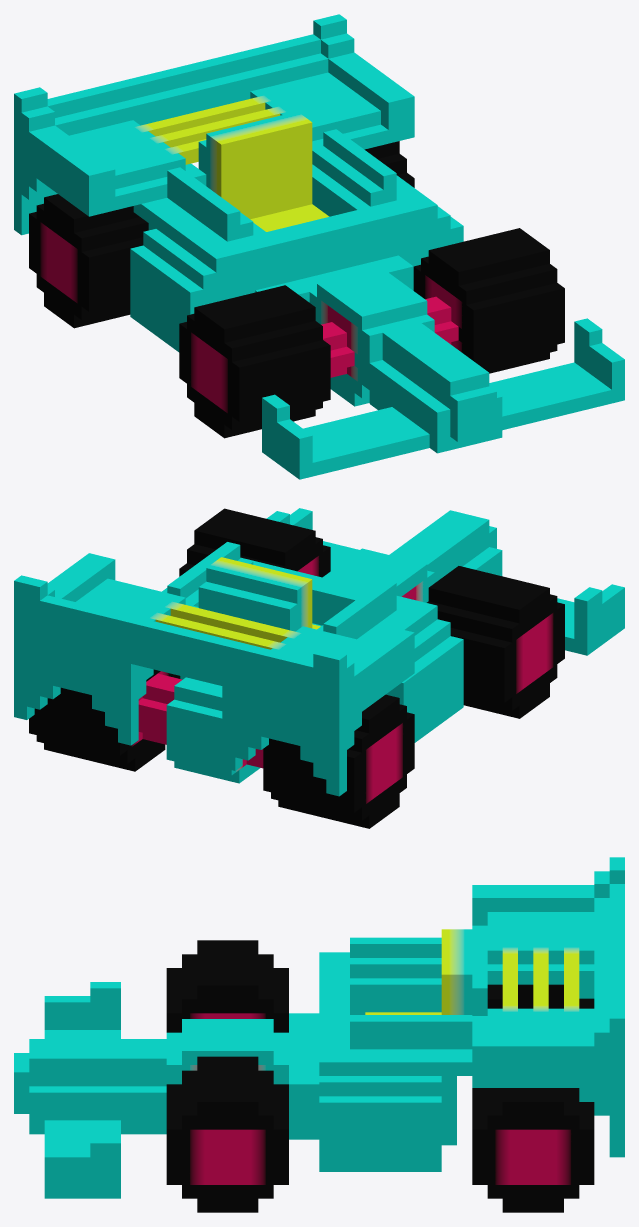
Rendered from Car_32.fbx.
3 renders of one model, top to bottom at view 1: azimuth 30°, elevation 25°; view 2: azimuth 150°, elevation 25°; view 3: azimuth 270°, elevation 25°, orthographic.
Parts seen in each view (by area): view 1: Car_32; view 2: Car_32; view 3: Car_32.
Boxes of the visible parts, box(x1,y1,x2,y2) form: Car_32: box(14, 14, 624, 479); Car_32: box(14, 508, 624, 828); Car_32: box(14, 857, 624, 1212).
Bounding box in the file's own units: 25 × 14 × 40.
Materials: 1 (1 with a texture image).
